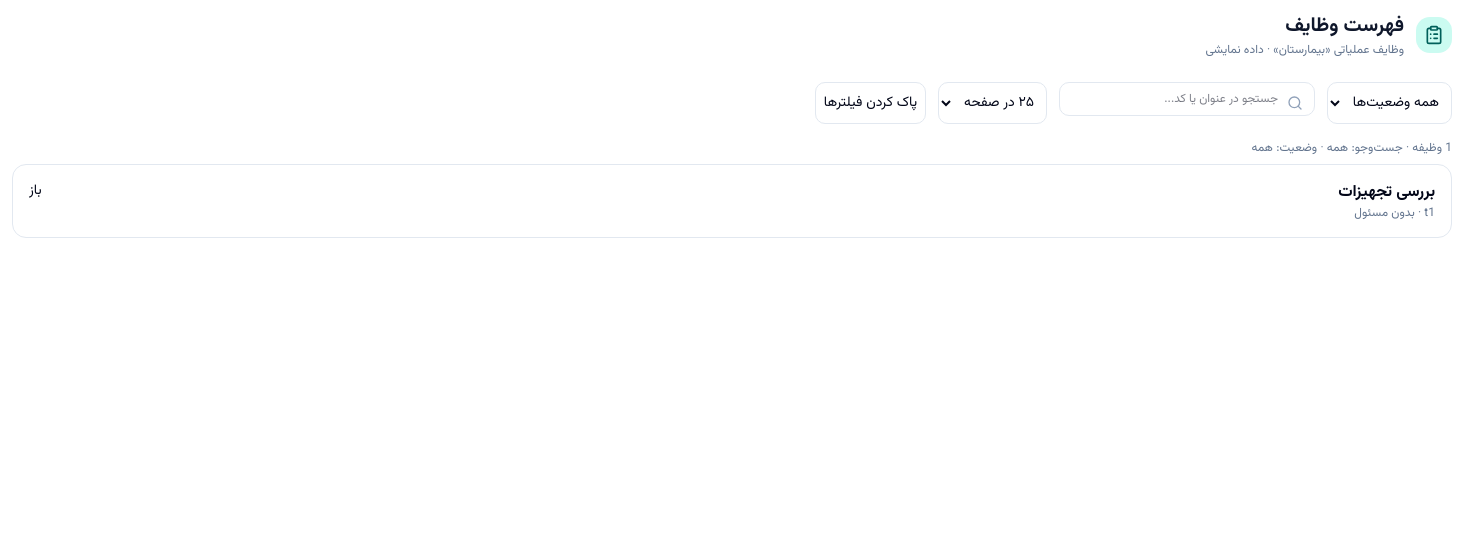
Test: Work list search reset › clears task search and status so the original task returns
Select "تکمیل‌شده" in the dropdown named "فیلتر وضعیت". click: (1390, 103)
box: [1327,82,1452,124]
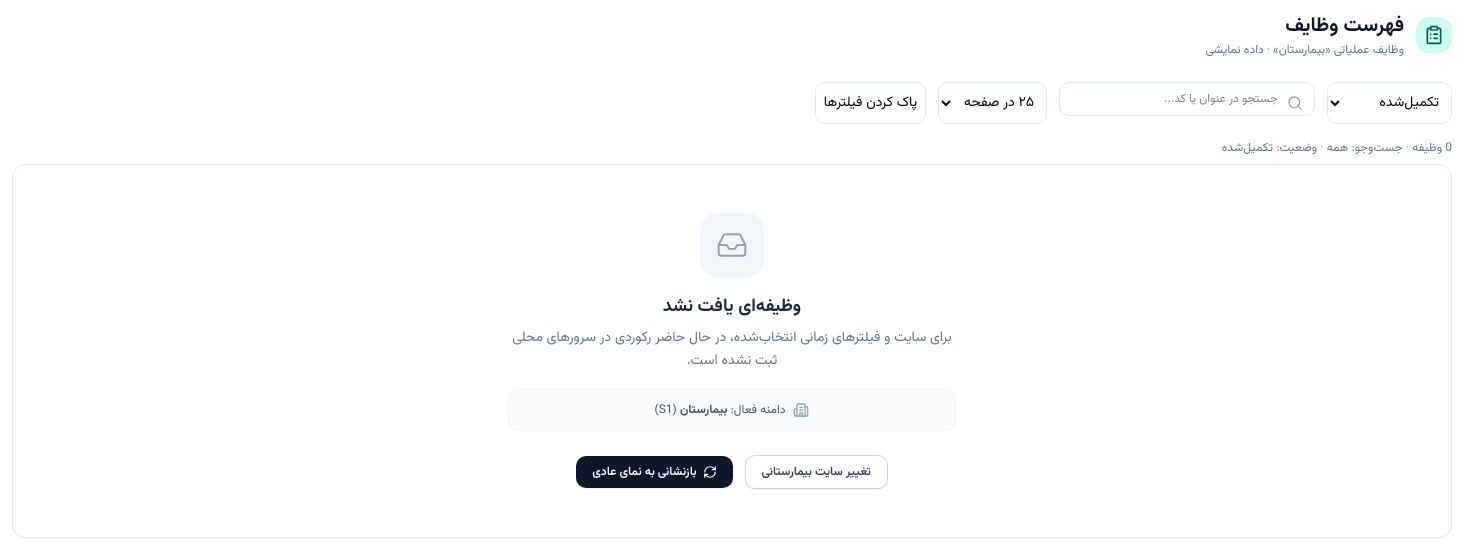
Type "بدون نتیجه" into the field. click: (1187, 99)
box: [1059,82,1315,116]
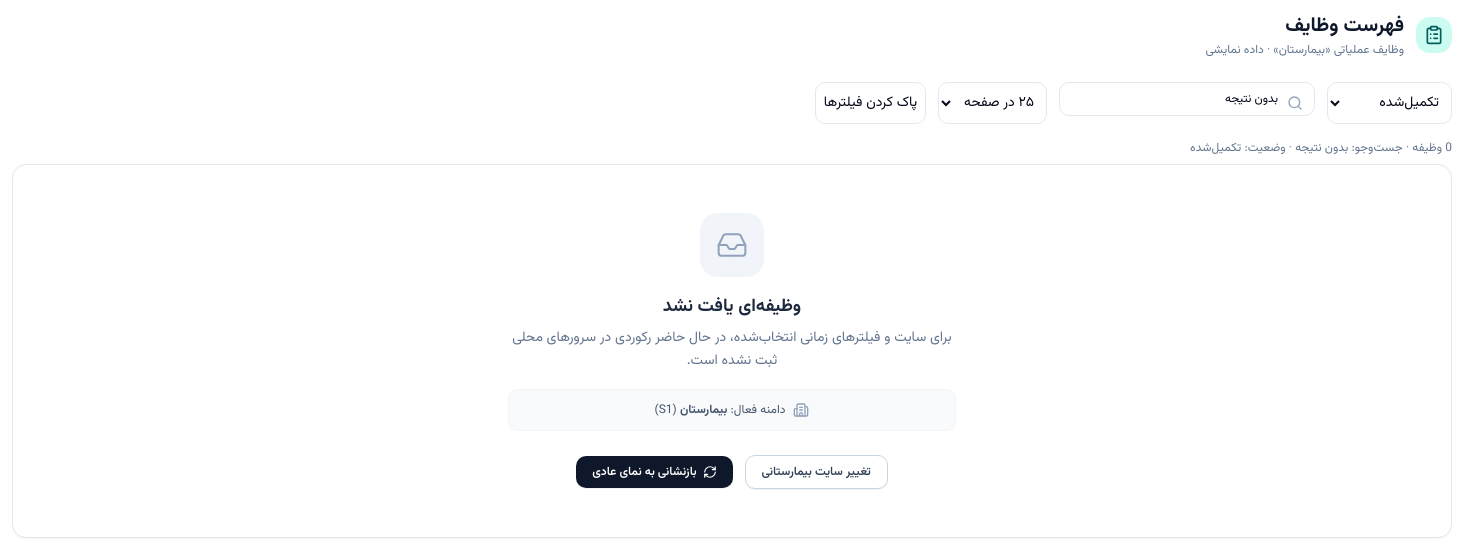
Click the button "پاک کردن فیلترها". click: (870, 103)
box: [815,82,926,124]
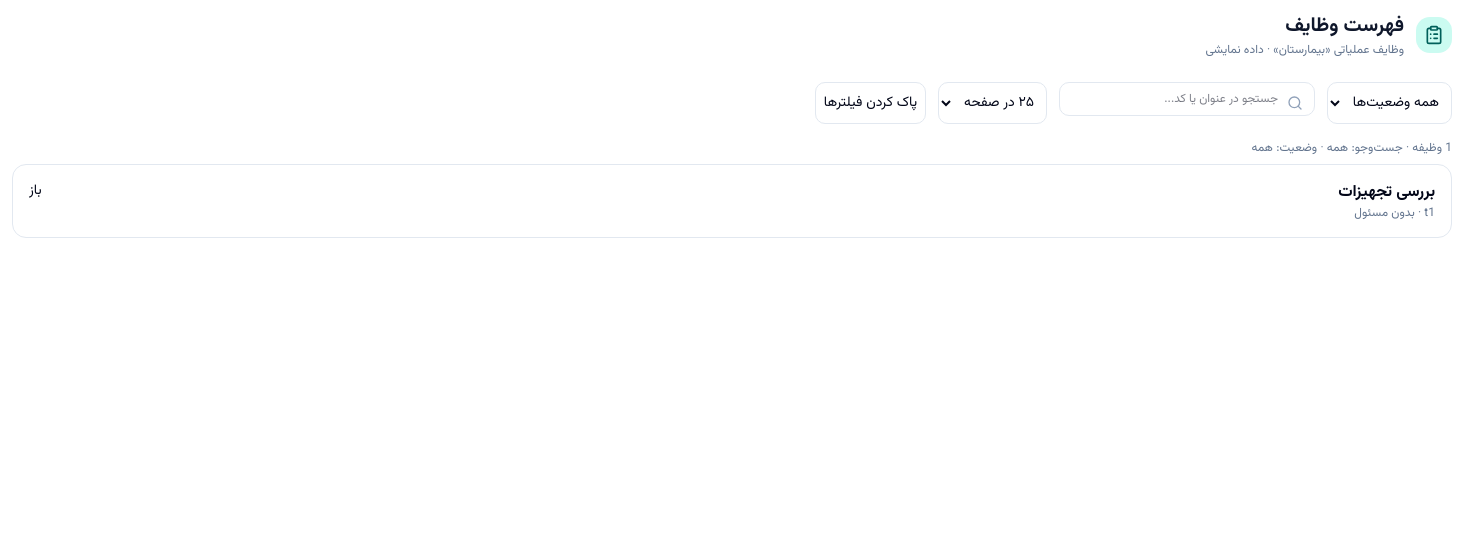
Check: the field is empty, box [1059,82,1315,116]
Check: the text "بررسی تجهیزات" is shown, box [1338,180,1435,205]
